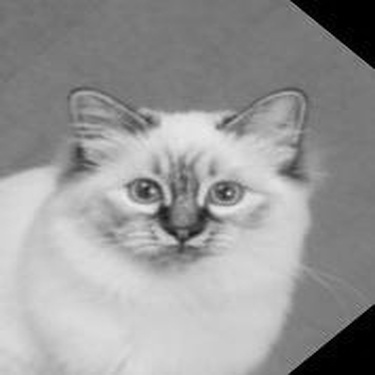cat: (5, 84, 312, 365)
